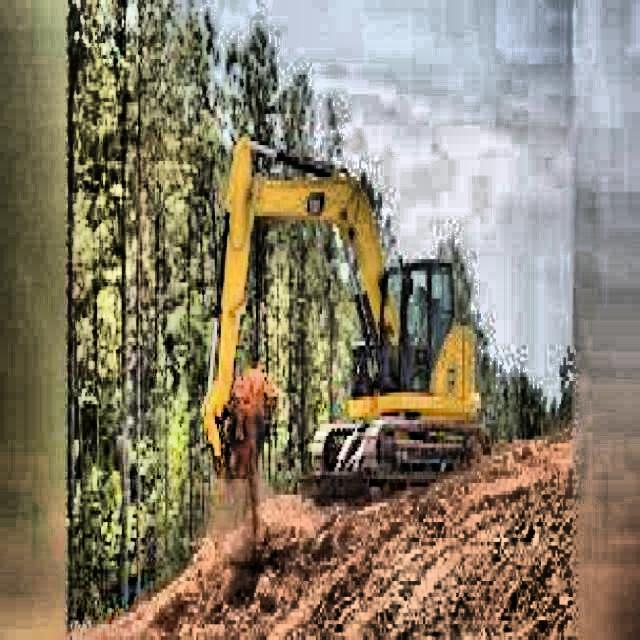bull_dozer/loader/grader: (200, 132, 488, 508)
person: (408, 280, 435, 346)
